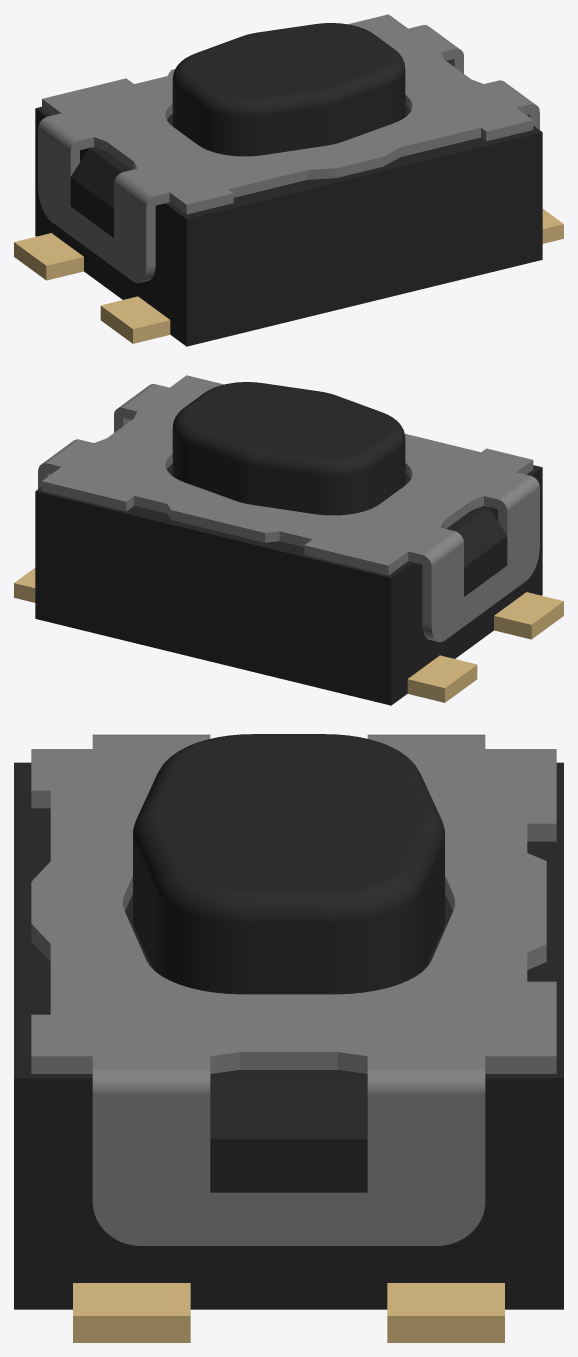
Rendered from button-kmr2.glb.
The picture shows the model from 3 angles, top to bottom: view 1: azimuth 30°, elevation 25°; view 2: azimuth 150°, elevation 25°; view 3: azimuth 270°, elevation 25°; orthographic projection. The views are drawn at different scales.
Parts seen in each view (by area): view 1: SW_Push_1P1T_NO_CK_KMR2_9a4fce, SW_Push_1P1T_NO_CK_KMR2_c95efb, SW_Push_1P1T_NO_CK_KMR2_4df2ac; view 2: SW_Push_1P1T_NO_CK_KMR2_9a4fce, SW_Push_1P1T_NO_CK_KMR2_c95efb, SW_Push_1P1T_NO_CK_KMR2_4df2ac; view 3: SW_Push_1P1T_NO_CK_KMR2_9a4fce, SW_Push_1P1T_NO_CK_KMR2_c95efb, SW_Push_1P1T_NO_CK_KMR2_4df2ac.
Boxes of the visible parts, <box> form: SW_Push_1P1T_NO_CK_KMR2_9a4fce: <box>35,23,542,346</box>; SW_Push_1P1T_NO_CK_KMR2_c95efb: <box>38,14,539,283</box>; SW_Push_1P1T_NO_CK_KMR2_4df2ac: <box>14,209,563,343</box>; SW_Push_1P1T_NO_CK_KMR2_9a4fce: <box>35,382,542,705</box>; SW_Push_1P1T_NO_CK_KMR2_c95efb: <box>38,375,539,642</box>; SW_Push_1P1T_NO_CK_KMR2_4df2ac: <box>14,568,563,702</box>; SW_Push_1P1T_NO_CK_KMR2_9a4fce: <box>14,734,563,1309</box>; SW_Push_1P1T_NO_CK_KMR2_c95efb: <box>31,734,556,1245</box>; SW_Push_1P1T_NO_CK_KMR2_4df2ac: <box>73,1283,504,1342</box>.
Bounding box in the file's own units: 4.6 × 1.9 × 2.8.
